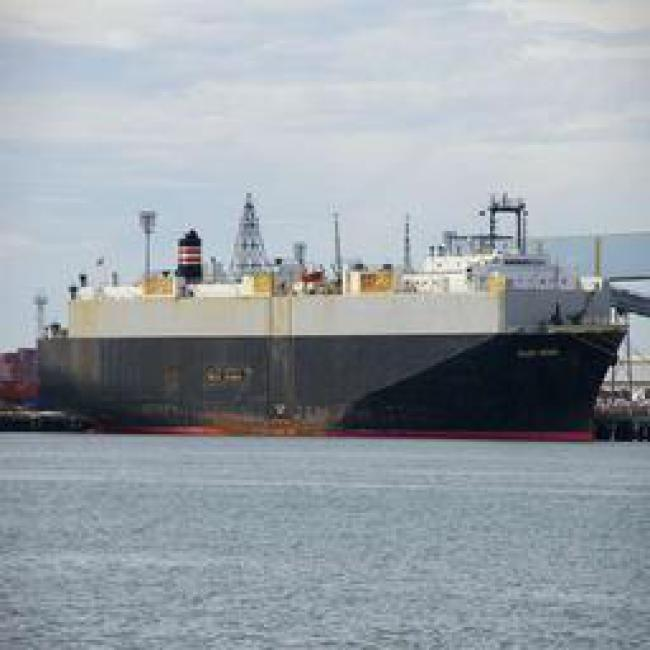Ship: (13, 256, 629, 456)
